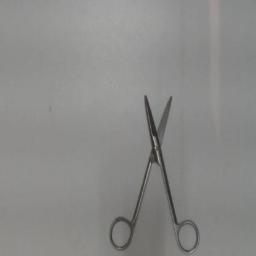Curved Mayo Scissors: (104, 91, 204, 255)
